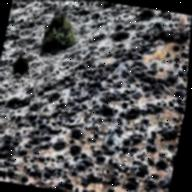boar: (98, 101, 114, 120)
